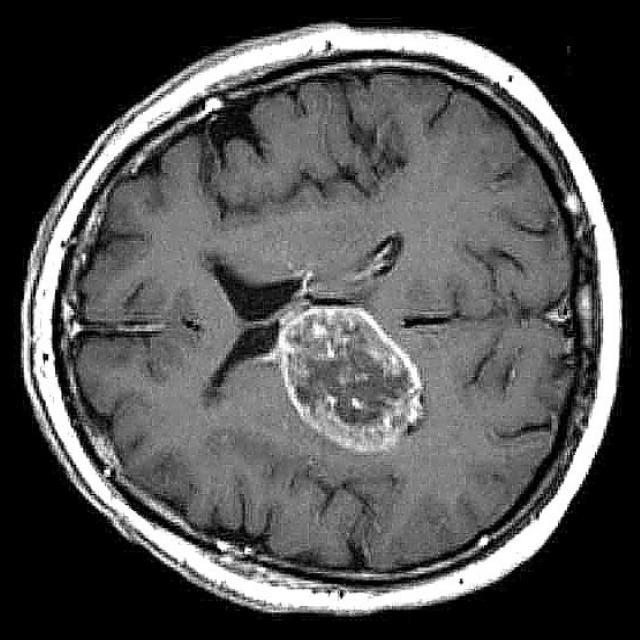tumor: (272, 275, 424, 455)
